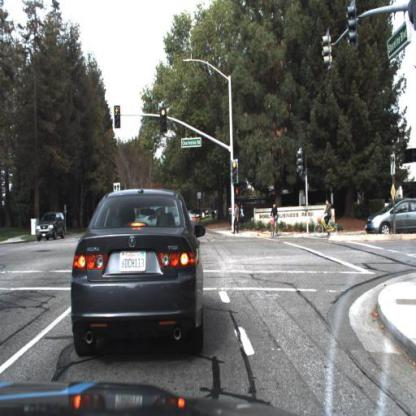biker: (315, 198, 340, 236), (271, 202, 281, 238)
car: (71, 186, 206, 357), (364, 193, 416, 234), (36, 210, 65, 241), (188, 203, 199, 243)
pedestrian: (232, 202, 240, 236), (229, 202, 234, 225), (241, 205, 245, 228)
trafficLight-Red: (161, 108, 167, 133), (233, 160, 239, 182)
trafficLight-RedLeft: (114, 105, 122, 127)
